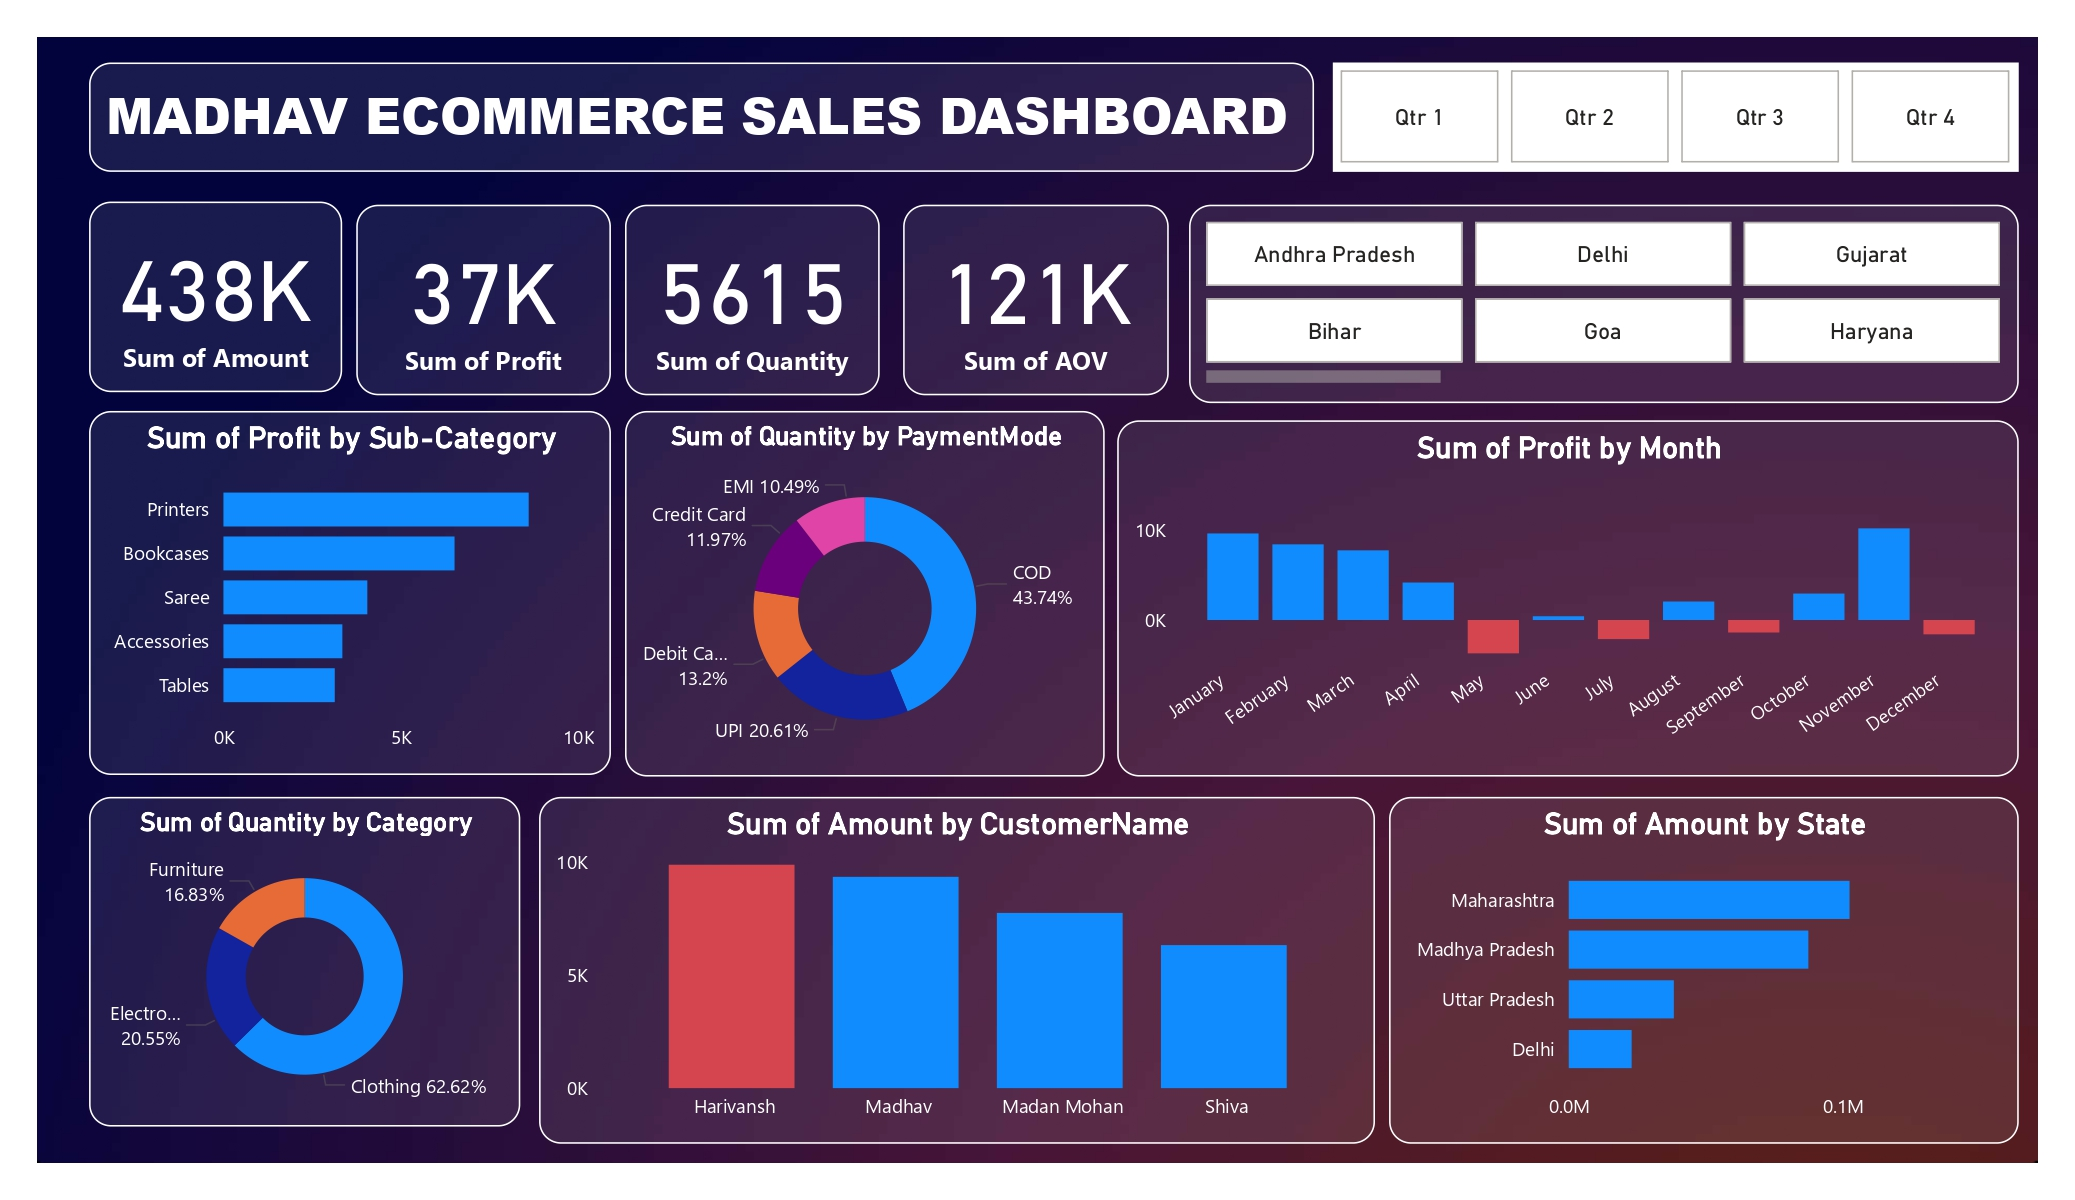

The dashboard page shown, as its layout file describes it:
{"tool":"powerbi","page":{"name":"Page 1","canvas":[1280,720],"ordinal":0},"visuals":[{"type":"card","fields":{"Values":["Sum(Details.Amount)"]},"box":[32.6,105,162.9,121.9],"z":0},{"type":"card","fields":{"Values":["Sum(Details.Profit)"]},"box":[203.9,107.4,162.9,121.9],"z":1000},{"type":"card","fields":{"Values":["Sum(Details.Quantity)"]},"box":[376.4,107.4,162.9,121.9],"z":2000},{"type":"card","fields":{"Values":["Sum(Details.AOV)"]},"box":[553.8,107.4,170.1,121.9],"z":3000},{"type":"columnChart","fields":{"Category":["Orders.Order Date.Variation.Date Hierarchy.Month"],"Y":["Sum(Details.Profit)"]},"box":[691.3,244.9,576.7,228],"z":4000},{"type":"barChart","fields":{"Category":["Orders.State"],"Y":["Sum(Details.Amount)"]},"box":[865,486.2,403,222],"z":5000},{"type":"donutChart","fields":{"Category":["Details.Category"],"Y":["Sum(Details.Quantity)"]},"box":[32.6,486.2,276.3,211.1],"z":6000},{"type":"columnChart","fields":{"Category":["Orders.CustomerName"],"Y":["Sum(Details.Amount)"]},"box":[321.1,485.8,535.2,222.3],"z":7000},{"type":"donutChart","fields":{"Y":["Sum(Details.Quantity)"],"Category":["Details.PaymentMode"]},"box":[376.4,238.9,306.4,234],"z":8000},{"type":"barChart","fields":{"Y":["Sum(Details.Profit)"],"Category":["Details.Sub-Category"]},"box":[32.6,238.9,334.2,232.8],"z":9000},{"type":"textbox","box":[32.6,15.7,784.2,70],"z":10000},{"type":"advancedSlicerVisual","fields":{"Values":["Orders.Order Date.Variation.Date Hierarchy.Quarter"]},"box":[828.8,15.7,439.1,70],"z":11000},{"type":"advancedSlicerVisual","fields":{"Values":["Orders.State"]},"box":[737.1,107.4,530.8,126.7],"z":12000}]}

Visuals, with their boxes on the page's 1280x720 design canvas (x1, y1, x2, y2). These are canvas units, not pixel positions in the 2075x1200 screenshot, which may show the page scaled, cropped or inside an application window:
card - Sum(Details.Amount): bbox=[33, 105, 196, 227]
card - Sum(Details.Profit): bbox=[204, 107, 367, 229]
card - Sum(Details.Quantity): bbox=[376, 107, 539, 229]
card - Sum(Details.AOV): bbox=[554, 107, 724, 229]
columnChart - Orders.Order Date.Variation.Date Hierarchy.Month x Sum(Details.Profit): bbox=[691, 245, 1268, 473]
barChart - Orders.State x Sum(Details.Amount): bbox=[865, 486, 1268, 708]
donutChart - Details.Category x Sum(Details.Quantity): bbox=[33, 486, 309, 697]
columnChart - Orders.CustomerName x Sum(Details.Amount): bbox=[321, 486, 856, 708]
donutChart - Sum(Details.Quantity) x Details.PaymentMode: bbox=[376, 239, 683, 473]
barChart - Sum(Details.Profit) x Details.Sub-Category: bbox=[33, 239, 367, 472]
textbox: bbox=[33, 16, 817, 86]
advancedSlicerVisual - Orders.Order Date.Variation.Date Hierarchy.Quarter: bbox=[829, 16, 1268, 86]
advancedSlicerVisual - Orders.State: bbox=[737, 107, 1268, 234]
